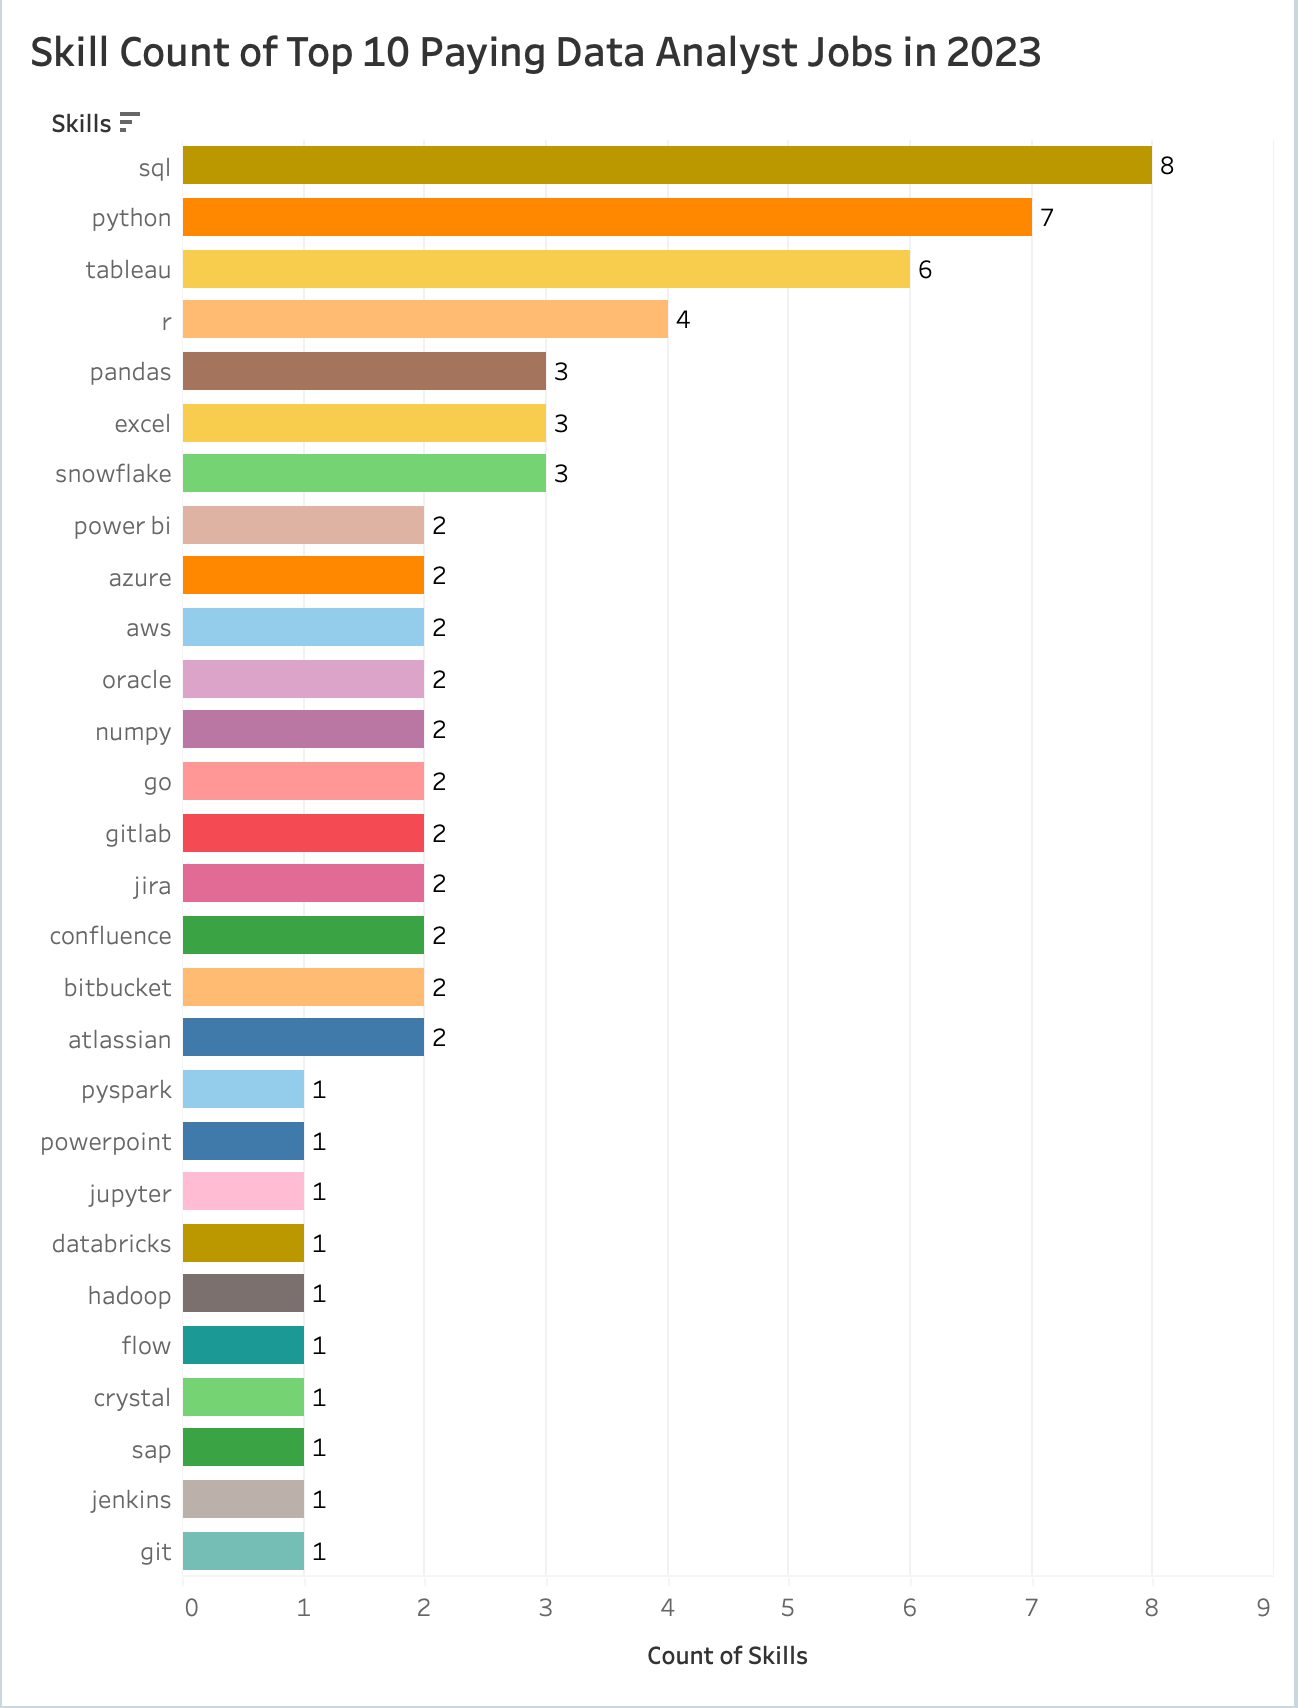

The page's visual inventory and layout, read from the dashboard file:
{"tool":"tableau","page":{"name":"Dashboard 1","canvas":[650,860],"ordinal":0},"visuals":[{"type":"worksheet","title":"count of skills","mark":"Automatic","rows":["skills"],"cols":["skills"],"box":[8,8,634,844]}]}

Visuals, with their boxes in screenshot pixels (x1, y1, x2, y2), scaled from the page's 650x860 canvas onto the 1298x1708 screenshot:
"count of skills" worksheet: Rect(16, 16, 1282, 1692)
